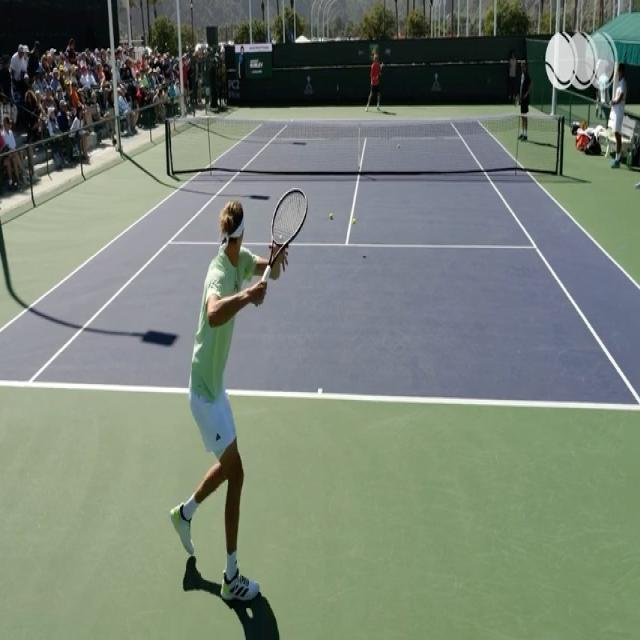forehand-ready: (174, 182, 308, 608)
